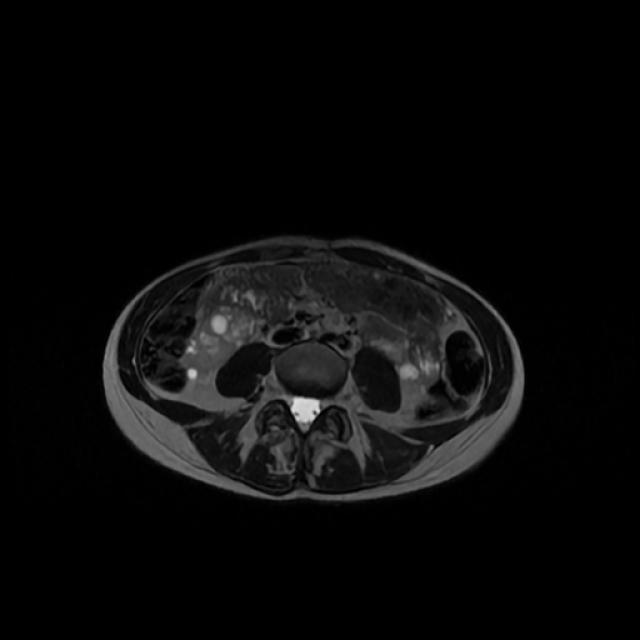sag: (182, 305, 239, 376)
sol: (399, 362, 419, 384)
